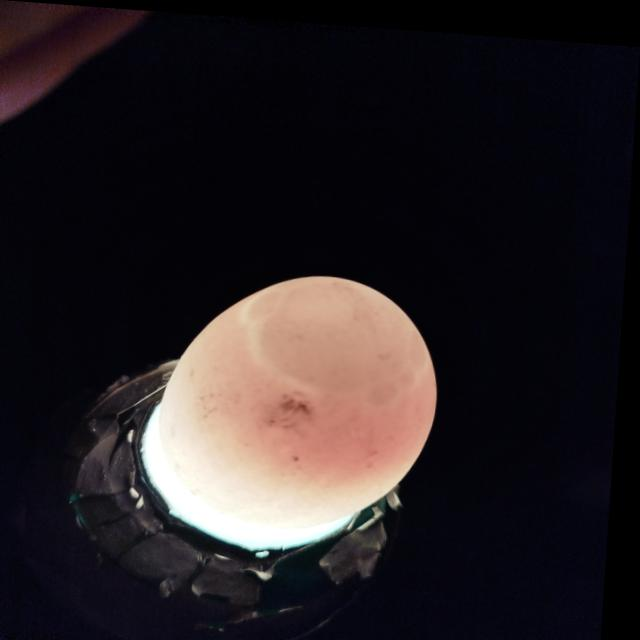Camara de Ar: (252, 271, 435, 399)
